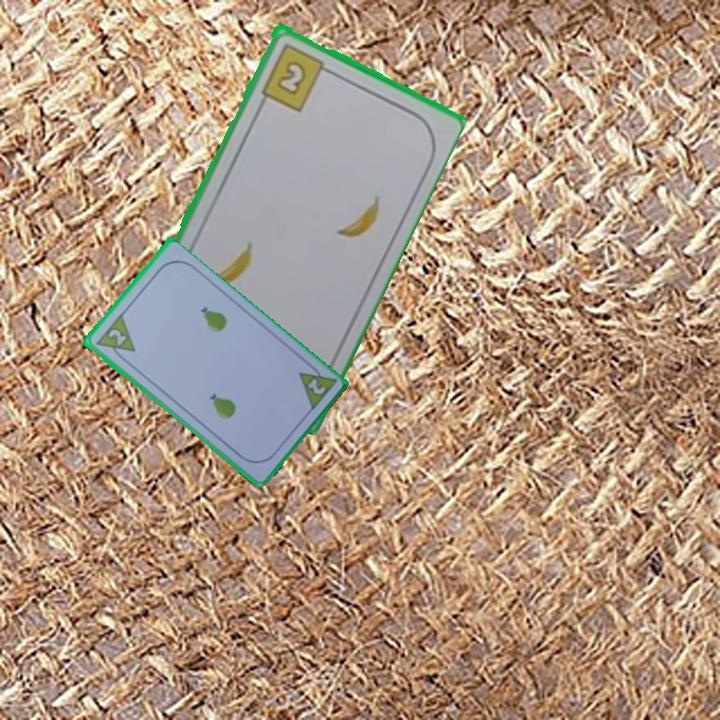2b: (257, 39, 334, 114)
2p: (294, 358, 339, 414), (104, 325, 129, 349)
